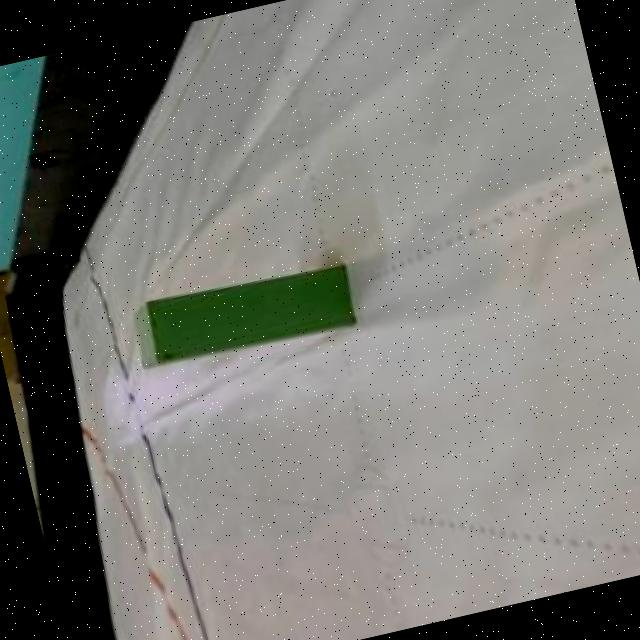greenbox: (122, 252, 361, 374)
